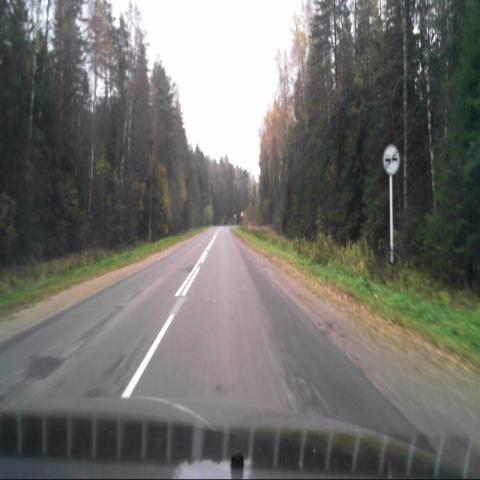3_21: (382, 144, 401, 174)
